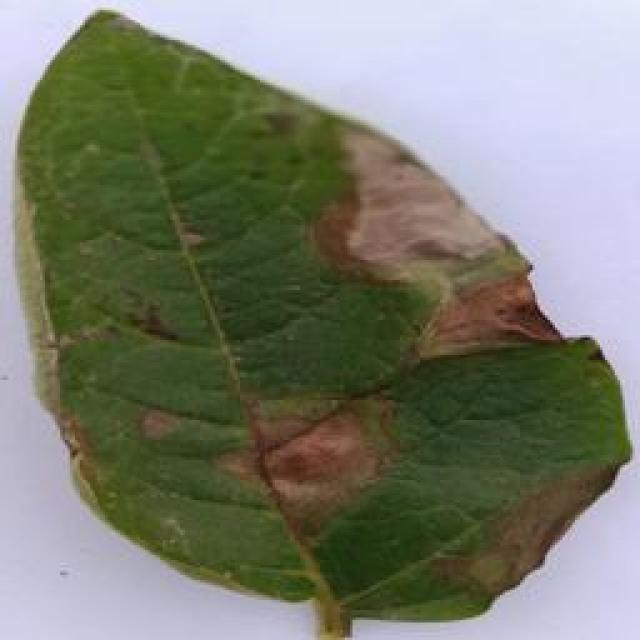Potato_Late_Blight: (16, 7, 621, 631)
